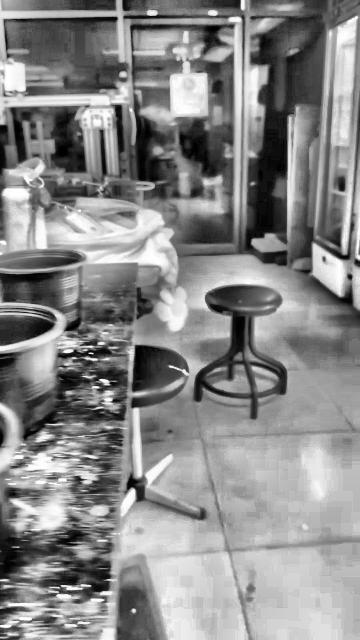pot: (0, 303, 65, 437), (0, 249, 86, 329), (0, 403, 21, 578)
